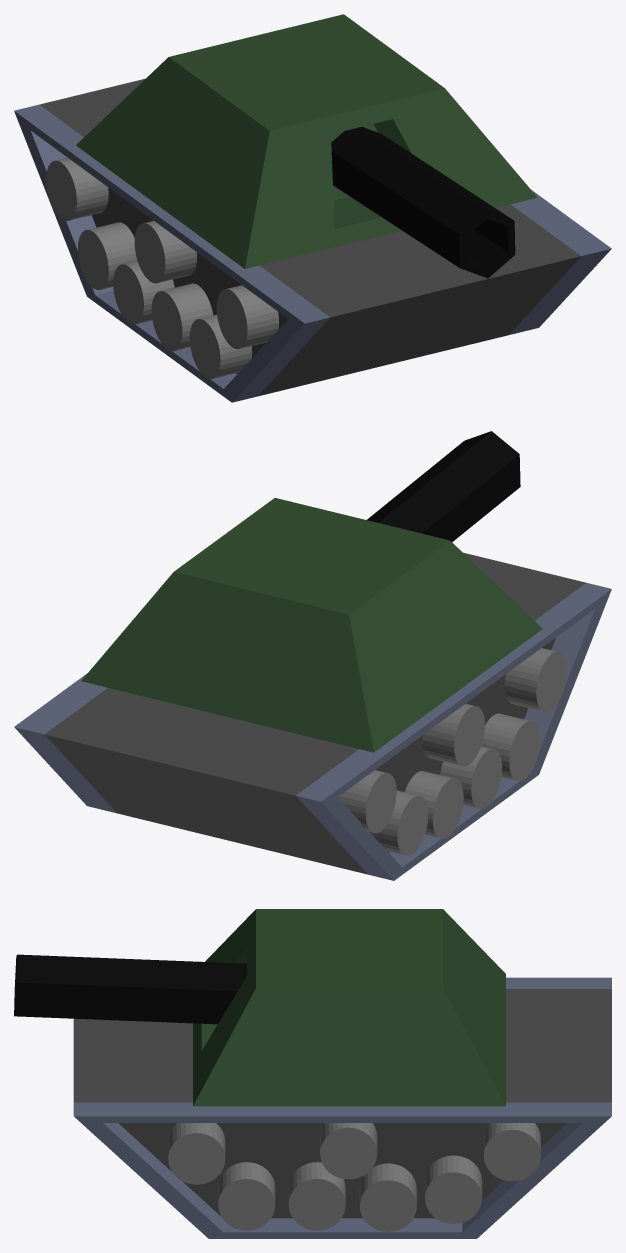
File: tank.fbx
3 views of the same model, one above another, from view 1: azimuth 30°, elevation 25°; view 2: azimuth 150°, elevation 25°; view 3: azimuth 270°, elevation 25° (orthographic). The views are drawn at different scales.
Visible parts, largest first — view 1: Cube; view 2: Cube; view 3: Cube.
Boxes of the visible parts, box(x1,y1,x2,y2) form: Cube: box(14, 14, 611, 402); Cube: box(14, 431, 611, 880); Cube: box(14, 909, 611, 1238).
Size of the model in its own units: 255 by 181 by 446.
